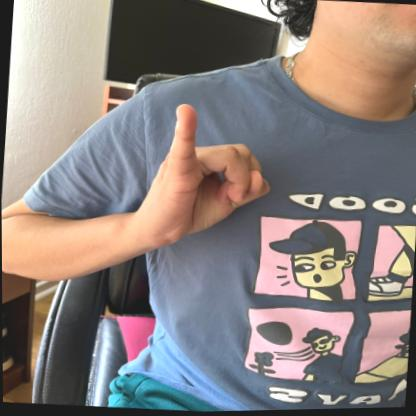I: (144, 93, 271, 255)
